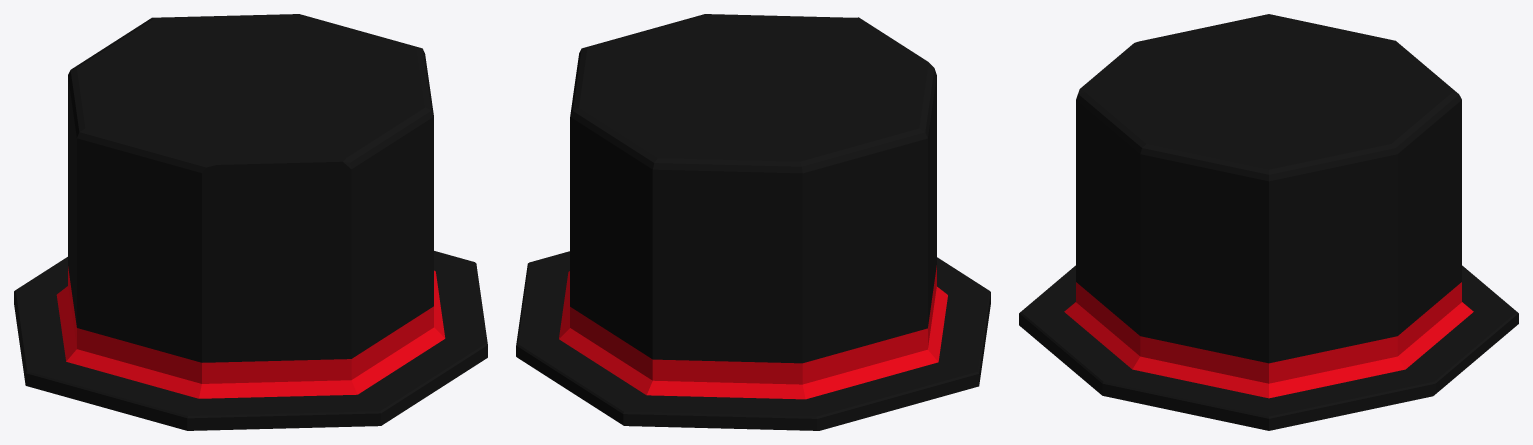
The model's file is hogglehat.fbx.
3 views of the same model, side by side, from view 1: azimuth 30°, elevation 25°; view 2: azimuth 150°, elevation 25°; view 3: azimuth 270°, elevation 25° (orthographic). The views are drawn at different scales.
Parts seen in each view (by area): view 1: Cube.001; view 2: Cube.001; view 3: Cube.001.
Part boxes in pixels (x1,y1,x2,y2): Cube.001: (14, 14, 487, 430); Cube.001: (516, 14, 990, 430); Cube.001: (1019, 14, 1518, 430).
Bounding box in the file's own units: 621 × 320 × 621.
